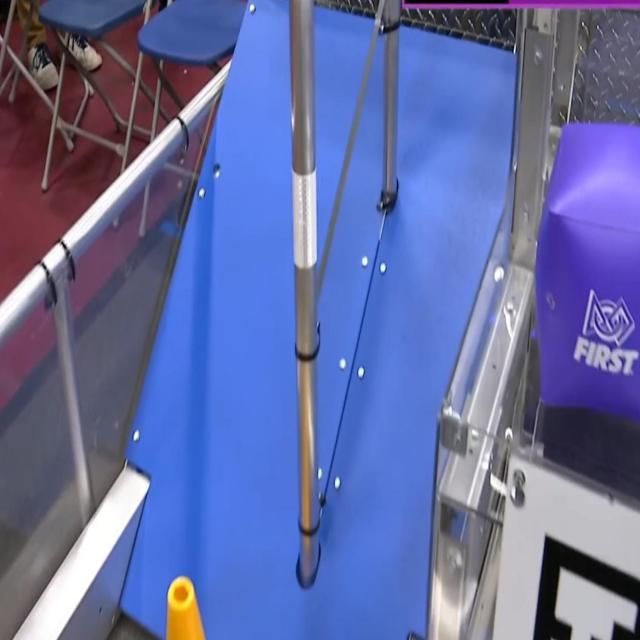frc_cone: (156, 568, 218, 640)
frc_cube: (532, 125, 640, 439)
